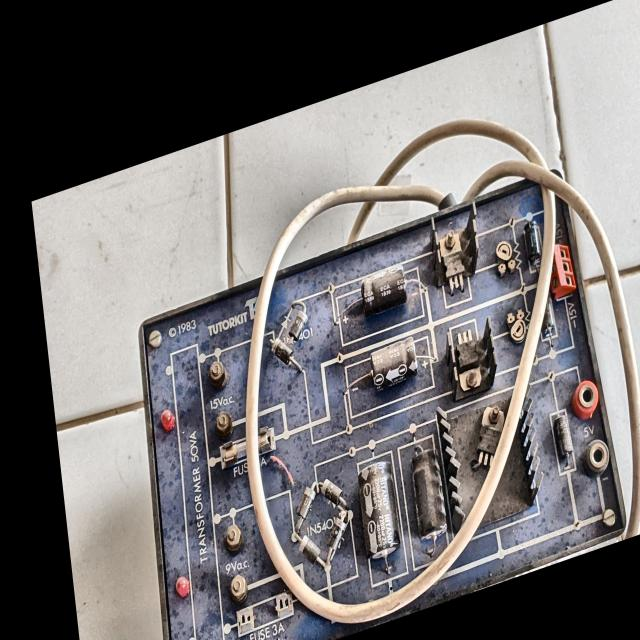Tutor Kit of Electronics: (122, 133, 639, 640)
